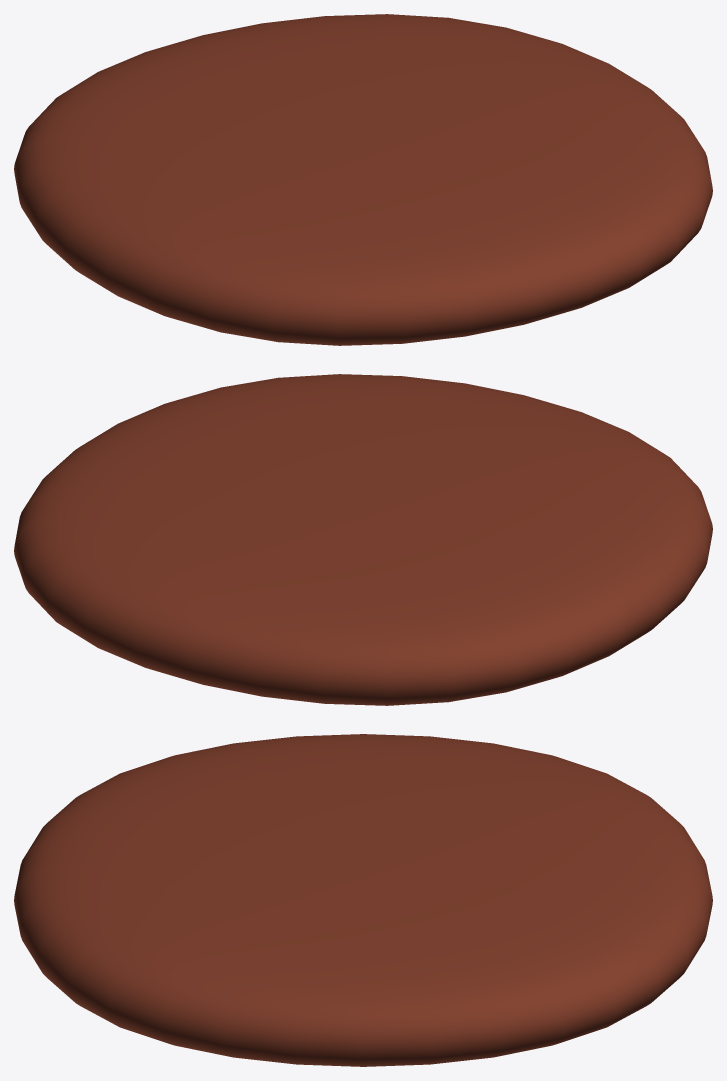
File: carne.glb
The picture shows the model from 3 angles, top to bottom: view 1: azimuth 30°, elevation 25°; view 2: azimuth 150°, elevation 25°; view 3: azimuth 270°, elevation 25°; orthographic projection. The views are drawn at different scales.
Visible parts, largest first — view 1: carne.001; view 2: carne.001; view 3: carne.001.
Boxes of the visible parts, x1,y1,x2,y2 form: carne.001: (14, 14, 712, 345); carne.001: (14, 374, 712, 705); carne.001: (14, 734, 712, 1066).
Size of the model in its own units: 1.98 by 0.2892 by 1.98.
